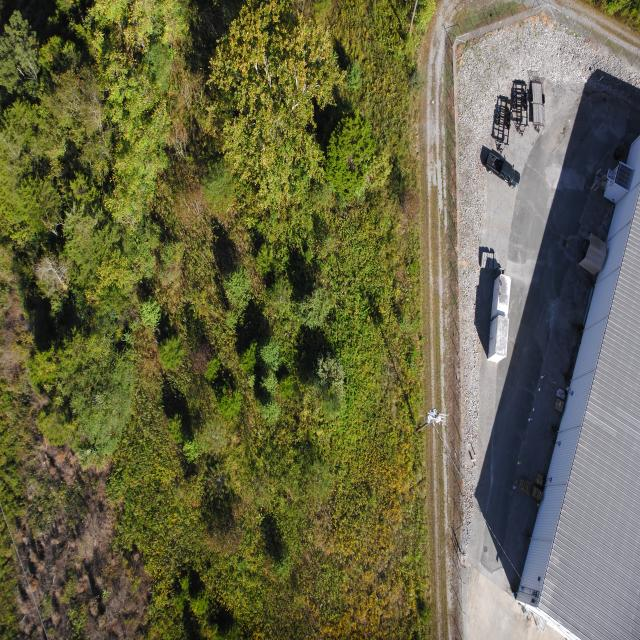Area of Interest: (0, 3, 184, 459), (204, 6, 425, 215)
